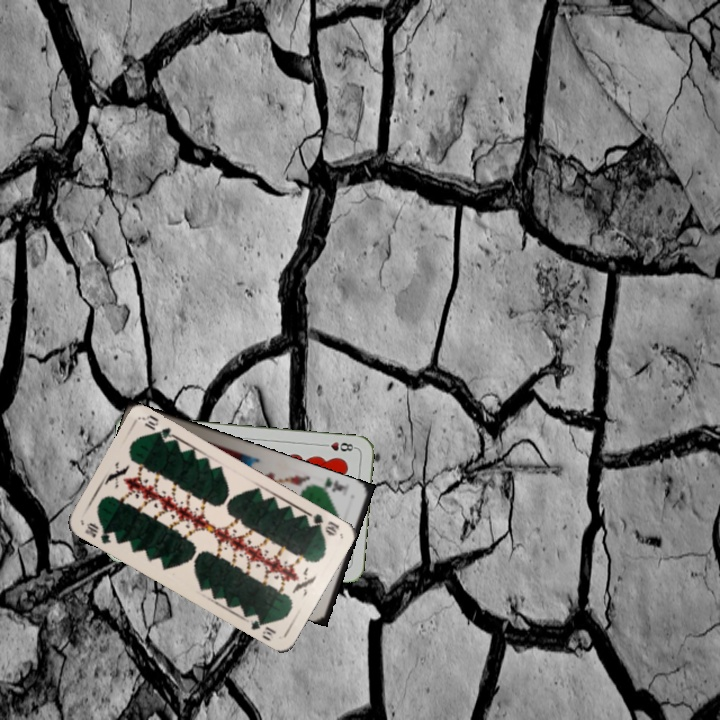G10: (302, 509, 342, 539), (81, 518, 114, 546)
GK: (314, 474, 348, 494)
H8: (318, 438, 359, 454)
